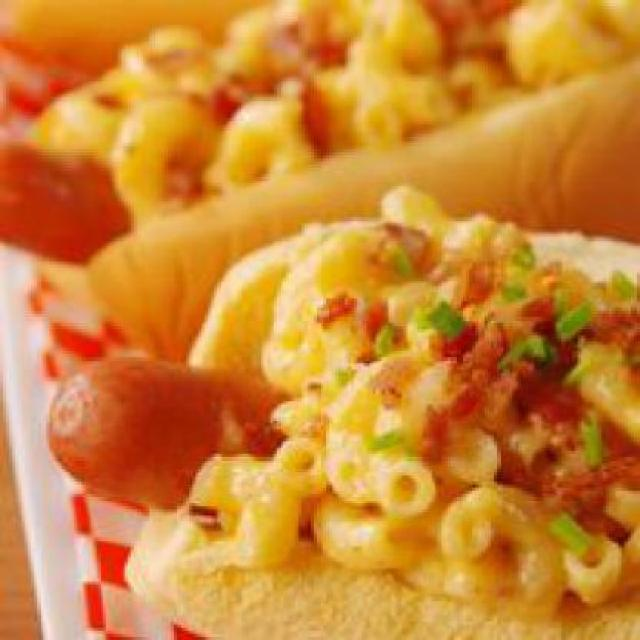macaroni and cheese: (273, 192, 638, 600)
